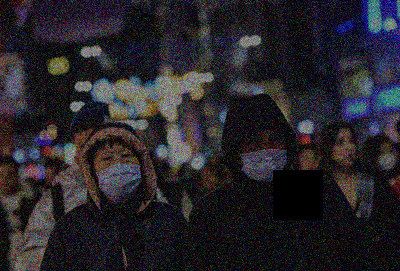with_mask: (91, 146, 143, 204), (239, 126, 290, 182), (378, 146, 399, 171)
without_mask: (333, 133, 360, 170), (1, 170, 20, 196)
